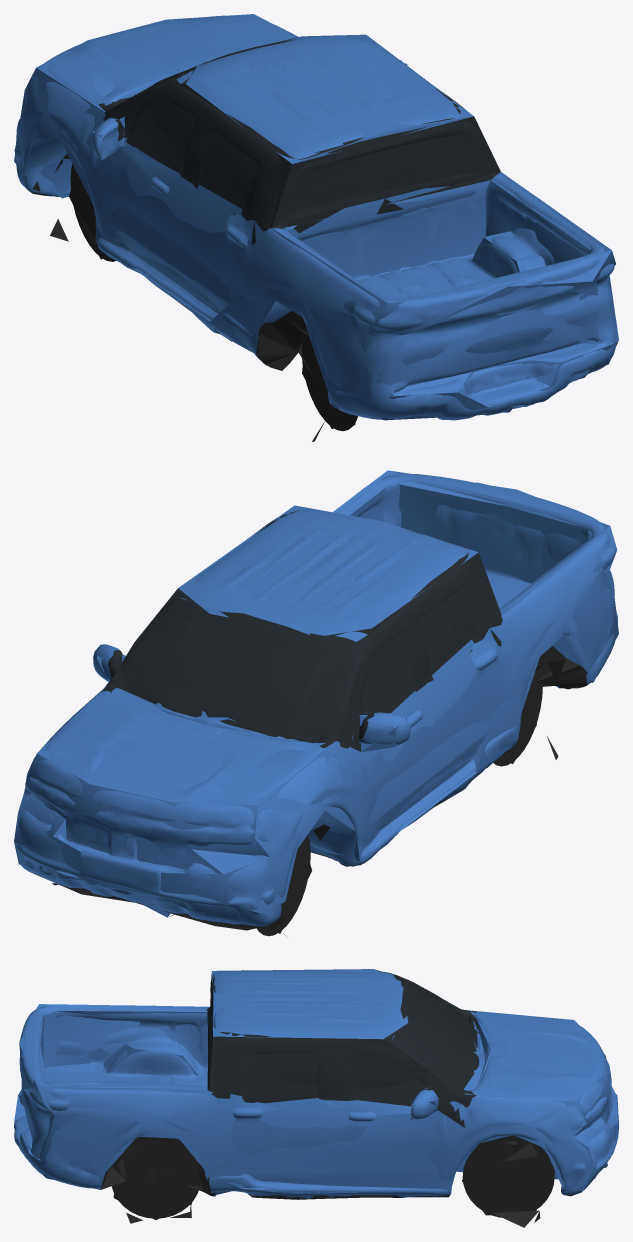
File: ford-maverick.glb
3 views of the same model, one above another, from view 1: azimuth 30°, elevation 25°; view 2: azimuth 150°, elevation 25°; view 3: azimuth 270°, elevation 25° (orthographic). The views are drawn at different scales.
Parts seen in each view (by area): view 1: body, far; view 2: body, far; view 3: body, far.
Boxes of the visible parts, box(x1,y1,x2,y2) form: body: box(14, 15, 616, 441); far: box(14, 14, 618, 428); body: box(17, 474, 617, 936); far: box(14, 470, 618, 933); body: box(14, 970, 618, 1227); far: box(14, 969, 616, 1219).
Size of the model in its own units: 2.34 by 1.79 by 5.16.
